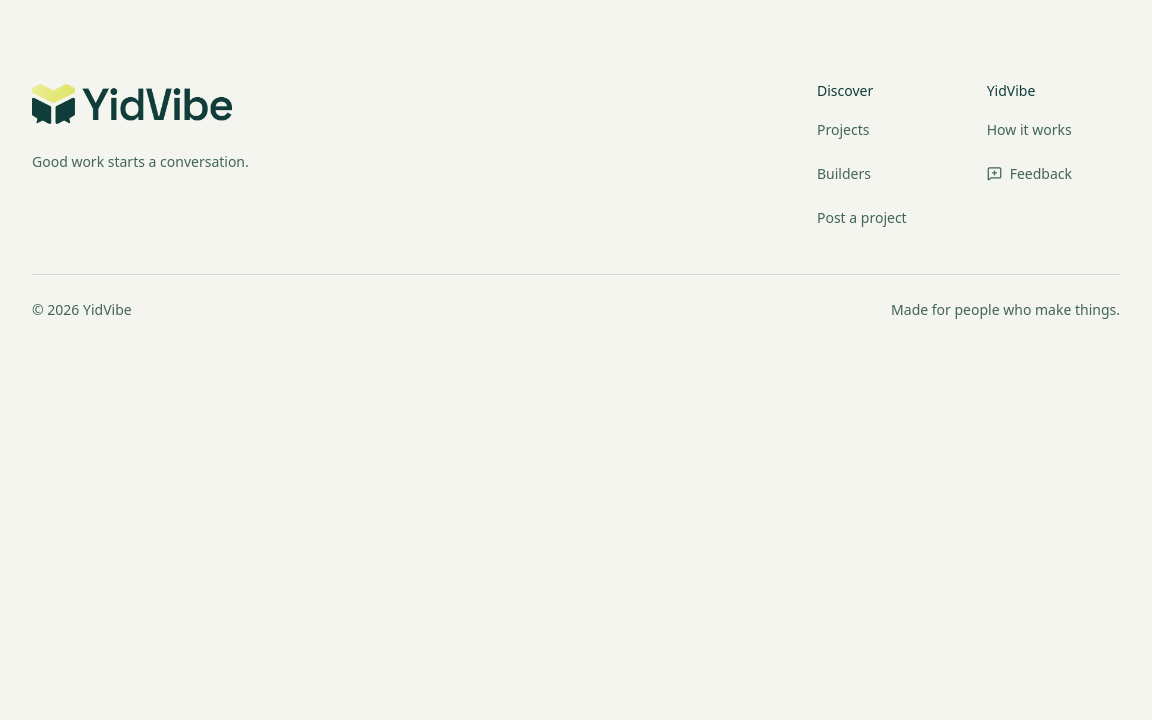
Test: provides feedback through the actual site footer and restores focus on close
Step 1. Click the button with aria-label "Send feedback" → (1029, 174), box left=987, top=158, right=1072, bottom=190
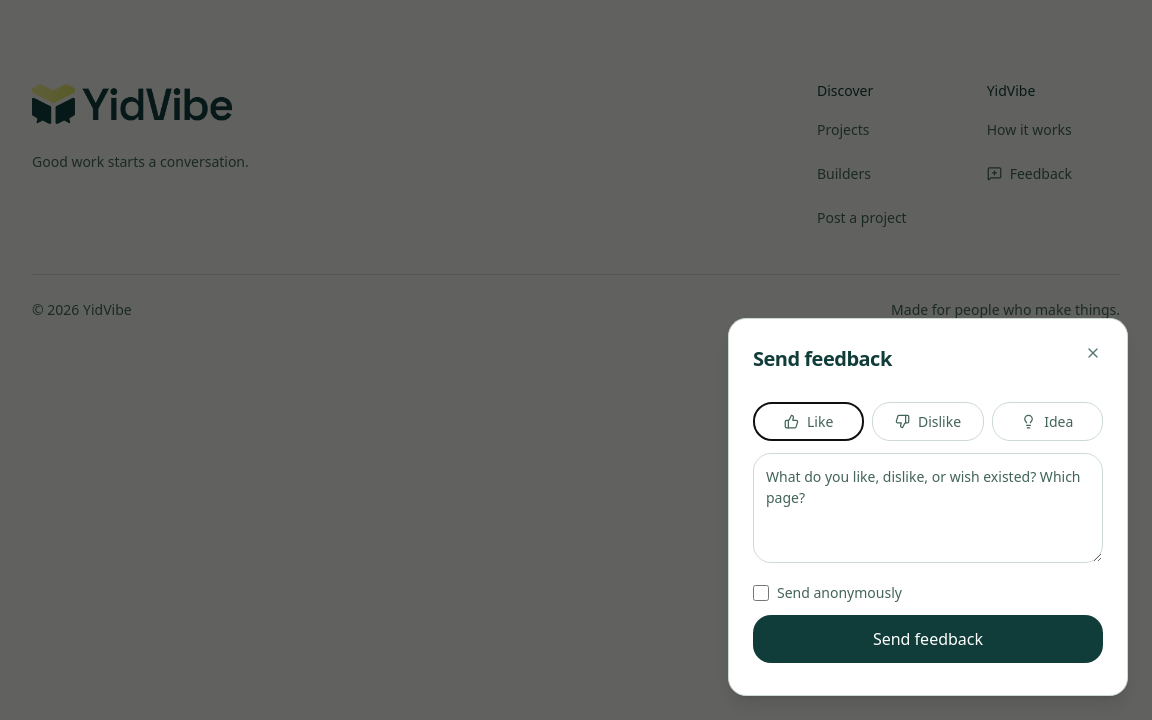
Check: the text box named "Feedback message" is shown, box left=753, top=453, right=1103, bottom=563
Step 2. Press Escape in the dialog "Send feedback", box left=728, top=318, right=1128, bottom=696
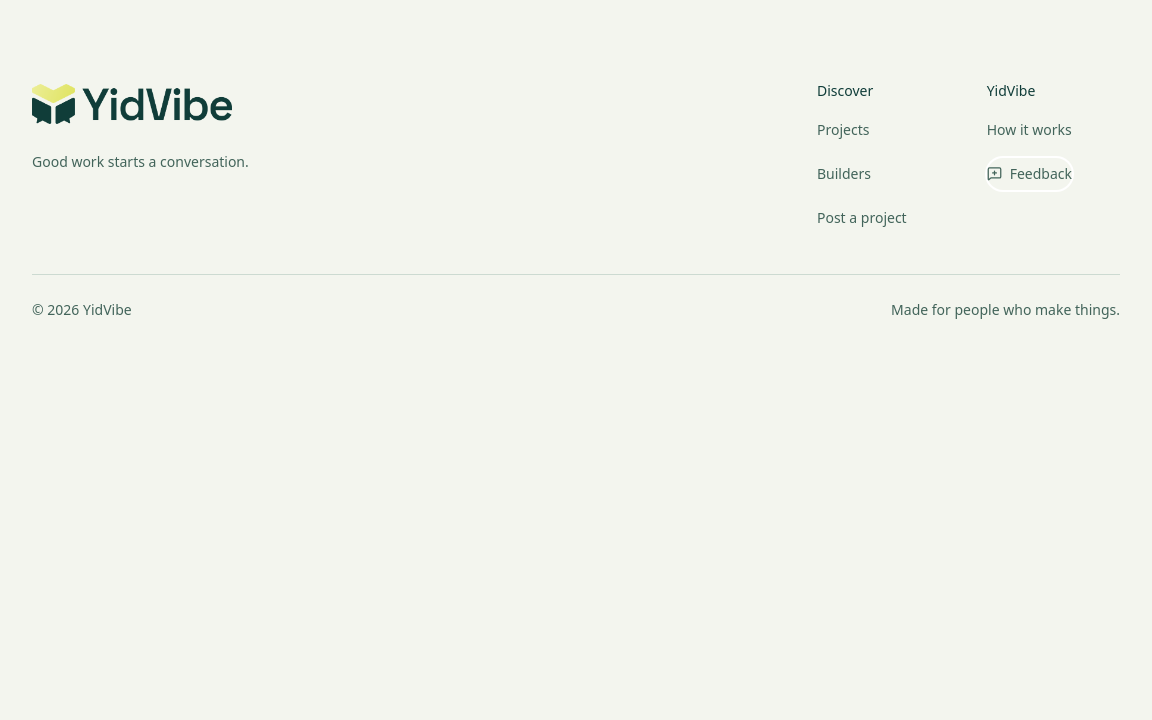
Check: the dialog is gone
